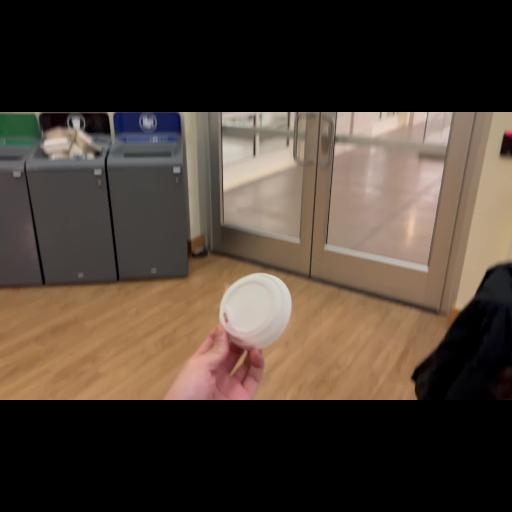lp_cup_lids: (209, 270, 297, 356)
